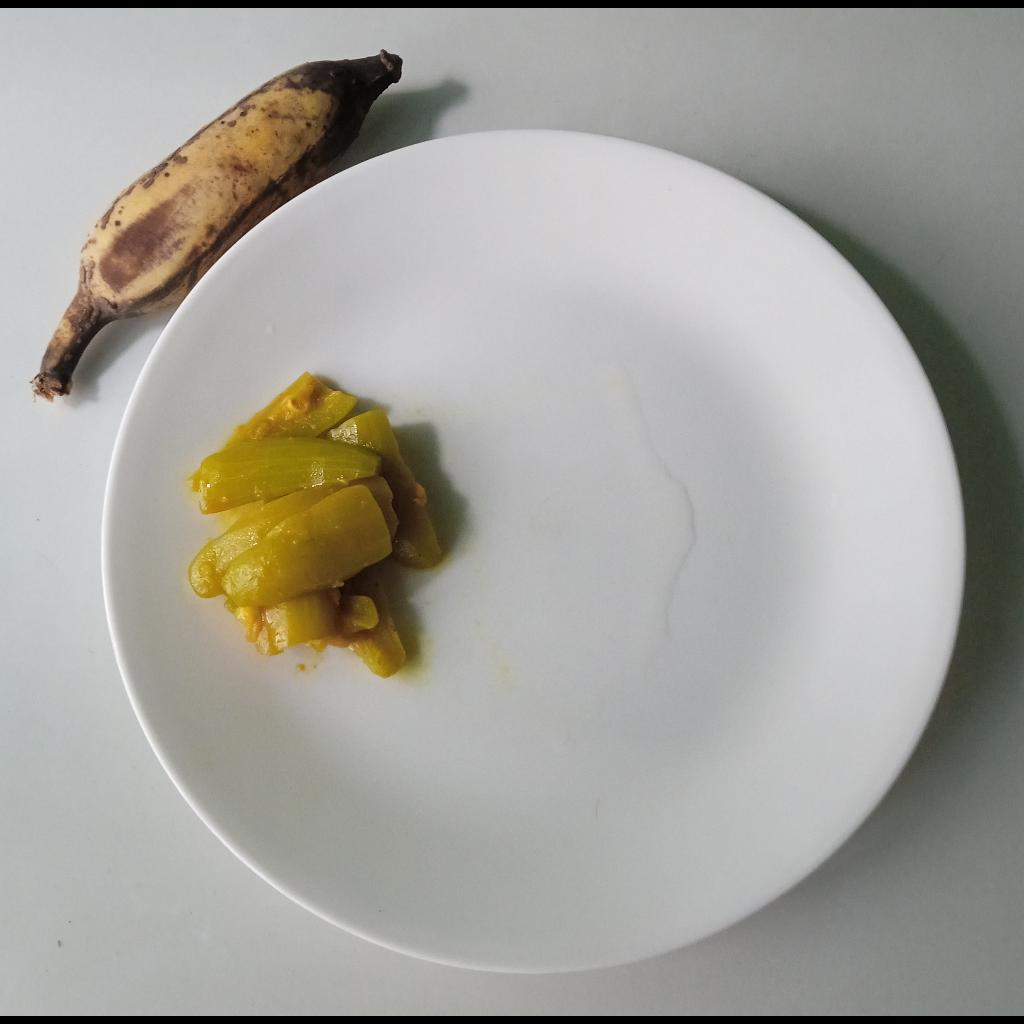banana: (33, 47, 410, 397)
potol: (187, 373, 453, 679)
